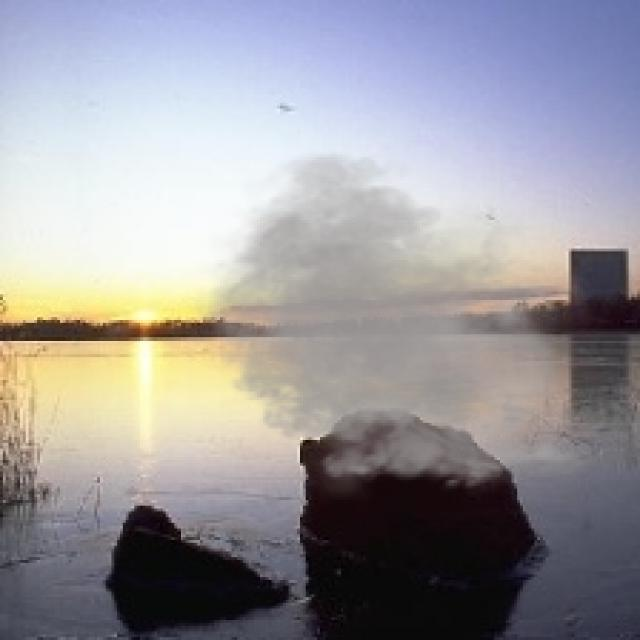smoke: (180, 140, 606, 506)
